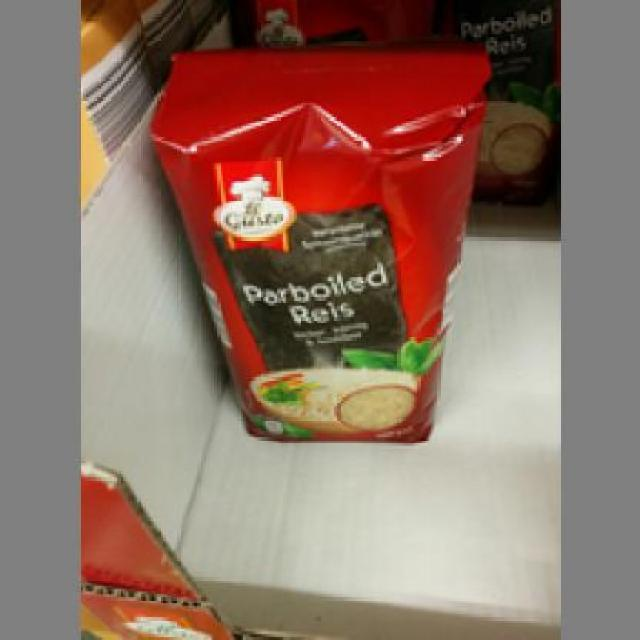Rice: (142, 46, 492, 443)
